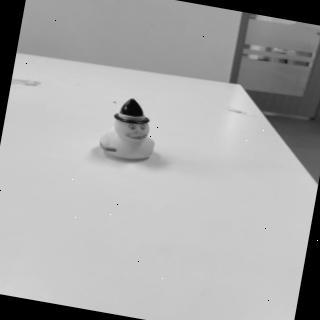duck_specialty: (97, 94, 166, 167)
